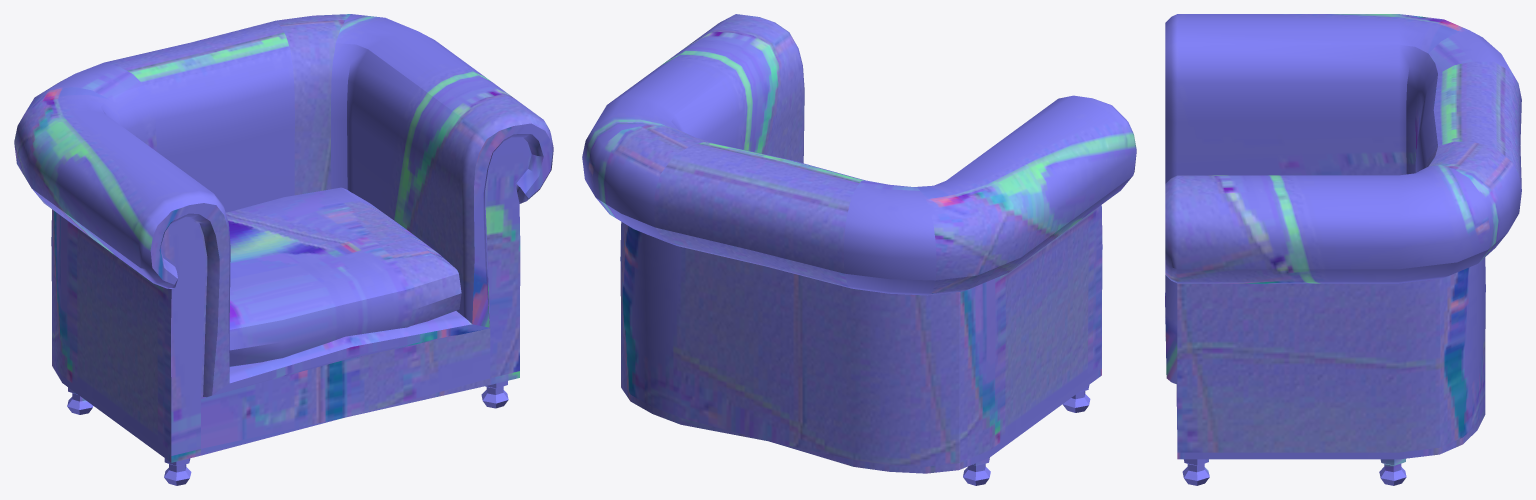
File: Armchair.glb
The picture shows the model from 3 angles, left to right: view 1: azimuth 30°, elevation 25°; view 2: azimuth 150°, elevation 25°; view 3: azimuth 270°, elevation 25°; orthographic projection. The views are drawn at different scales.
Parts seen in each view (by area): view 1: Armchair; view 2: Armchair; view 3: Armchair.
Part boxes in pixels (left/top/right/bottom): Armchair: left=14, top=14, right=553, bottom=485; Armchair: left=582, top=14, right=1136, bottom=485; Armchair: left=1165, top=14, right=1521, bottom=485.
Bounding box in the file's own units: 11.94 × 8.17 × 8.76.
Materials: 1 (1 with a texture image).
